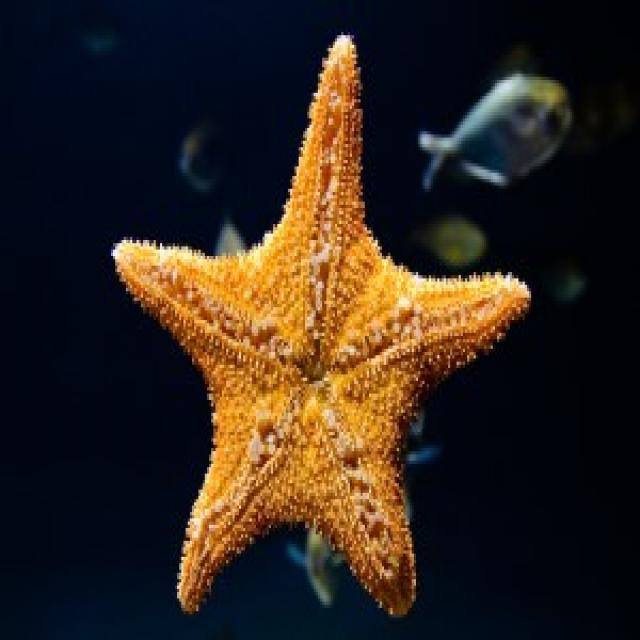Starfish: (108, 27, 532, 626)
